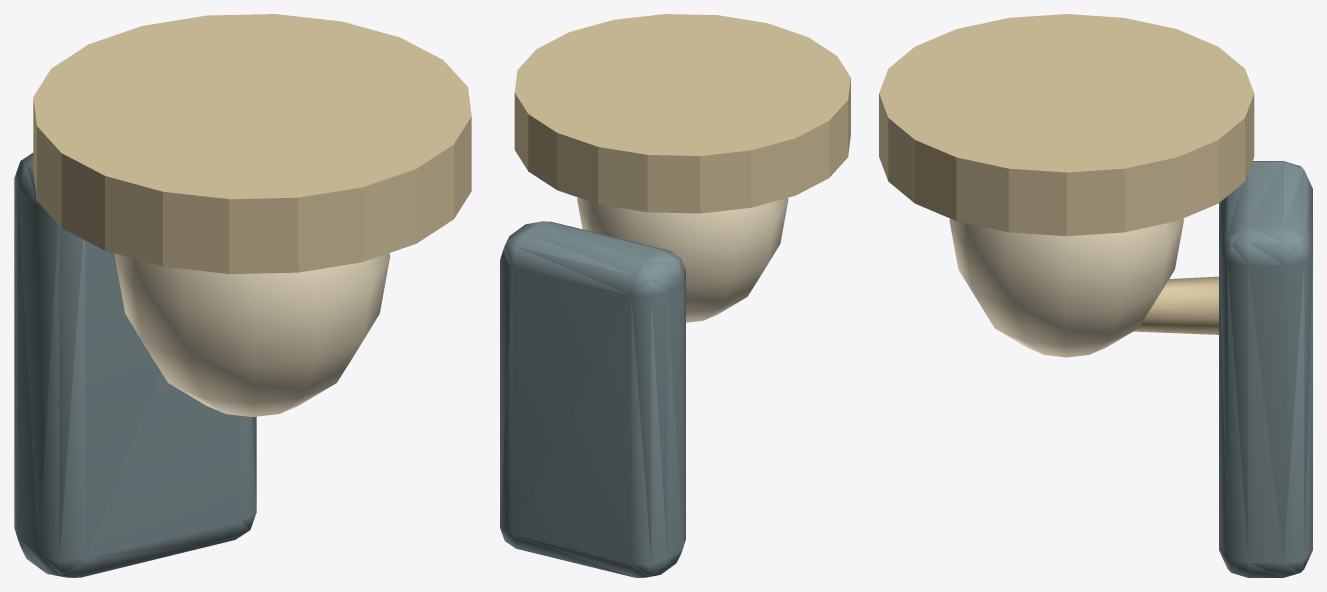
File: WallSconce.fbx
3 renders of one model, left to right at view 1: azimuth 30°, elevation 25°; view 2: azimuth 150°, elevation 25°; view 3: azimuth 270°, elevation 25°, orthographic. The views are drawn at different scales.
Visible parts, largest first — view 1: WallSconce; view 2: WallSconce; view 3: WallSconce.
Part boxes in pixels (x1,y1,x2,y2): WallSconce: (14,14,471,577); WallSconce: (500,14,850,577); WallSconce: (879,14,1312,577).
Bounding box in the file's own units: 0.32 × 0.425 × 0.37.
